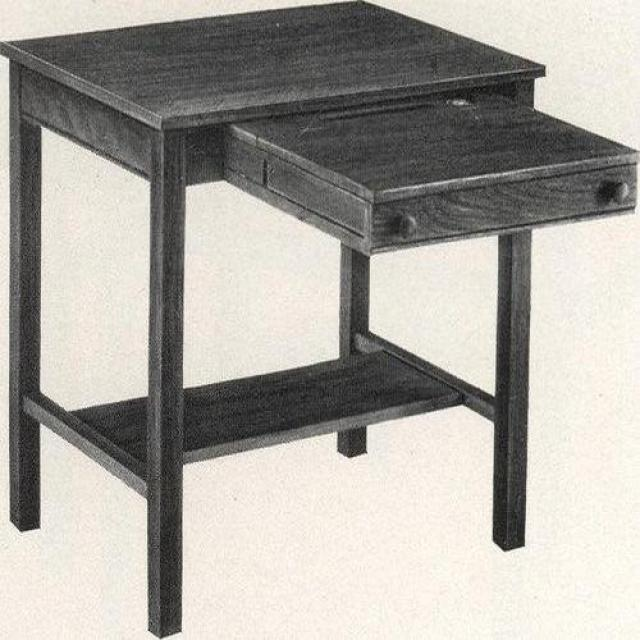table: (0, 1, 639, 640)
